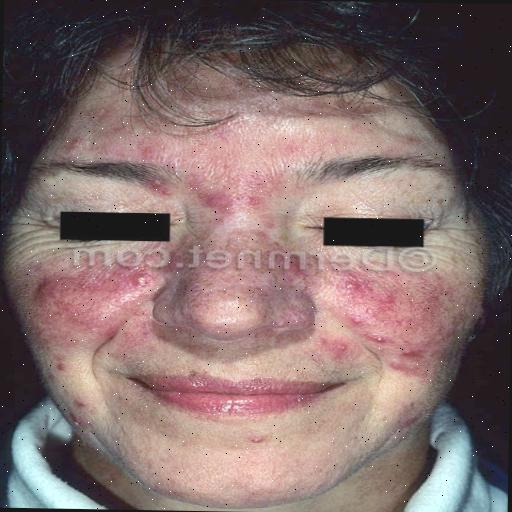Skin_Lesion: (74, 258, 164, 318), (182, 232, 278, 288), (190, 174, 286, 214), (364, 332, 435, 376), (38, 407, 72, 498), (388, 273, 446, 318), (2, 141, 25, 251), (32, 258, 55, 336), (335, 264, 373, 308), (140, 162, 178, 206), (280, 248, 316, 280), (326, 331, 358, 365), (489, 453, 508, 507), (280, 305, 322, 324), (50, 347, 70, 384), (244, 430, 274, 454)
